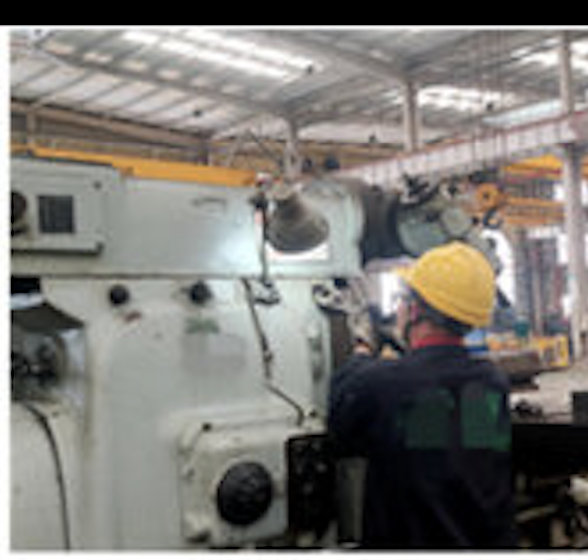gloves: (315, 273, 399, 350)
